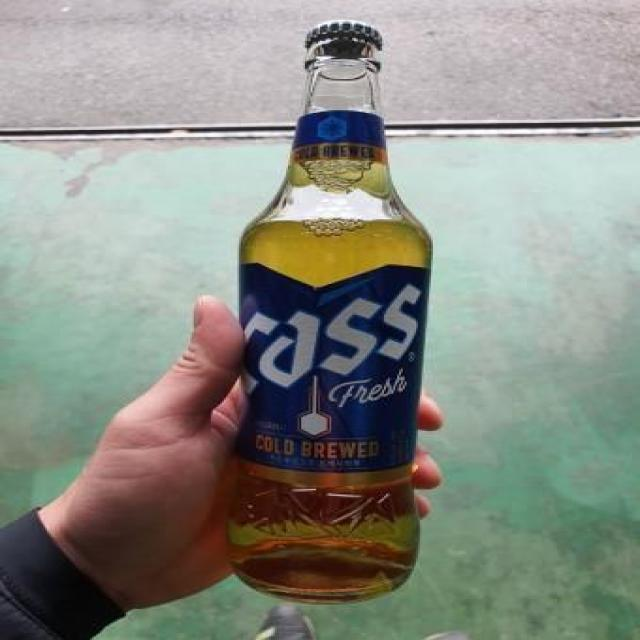beer-bottle: (225, 18, 432, 605)
